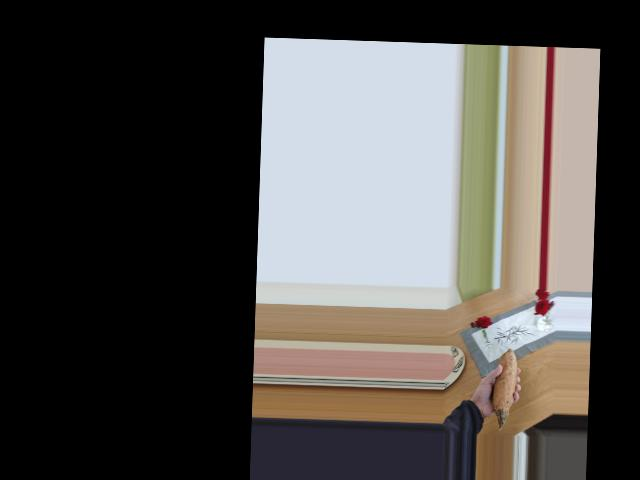sweet_potato: (485, 346, 521, 423)
